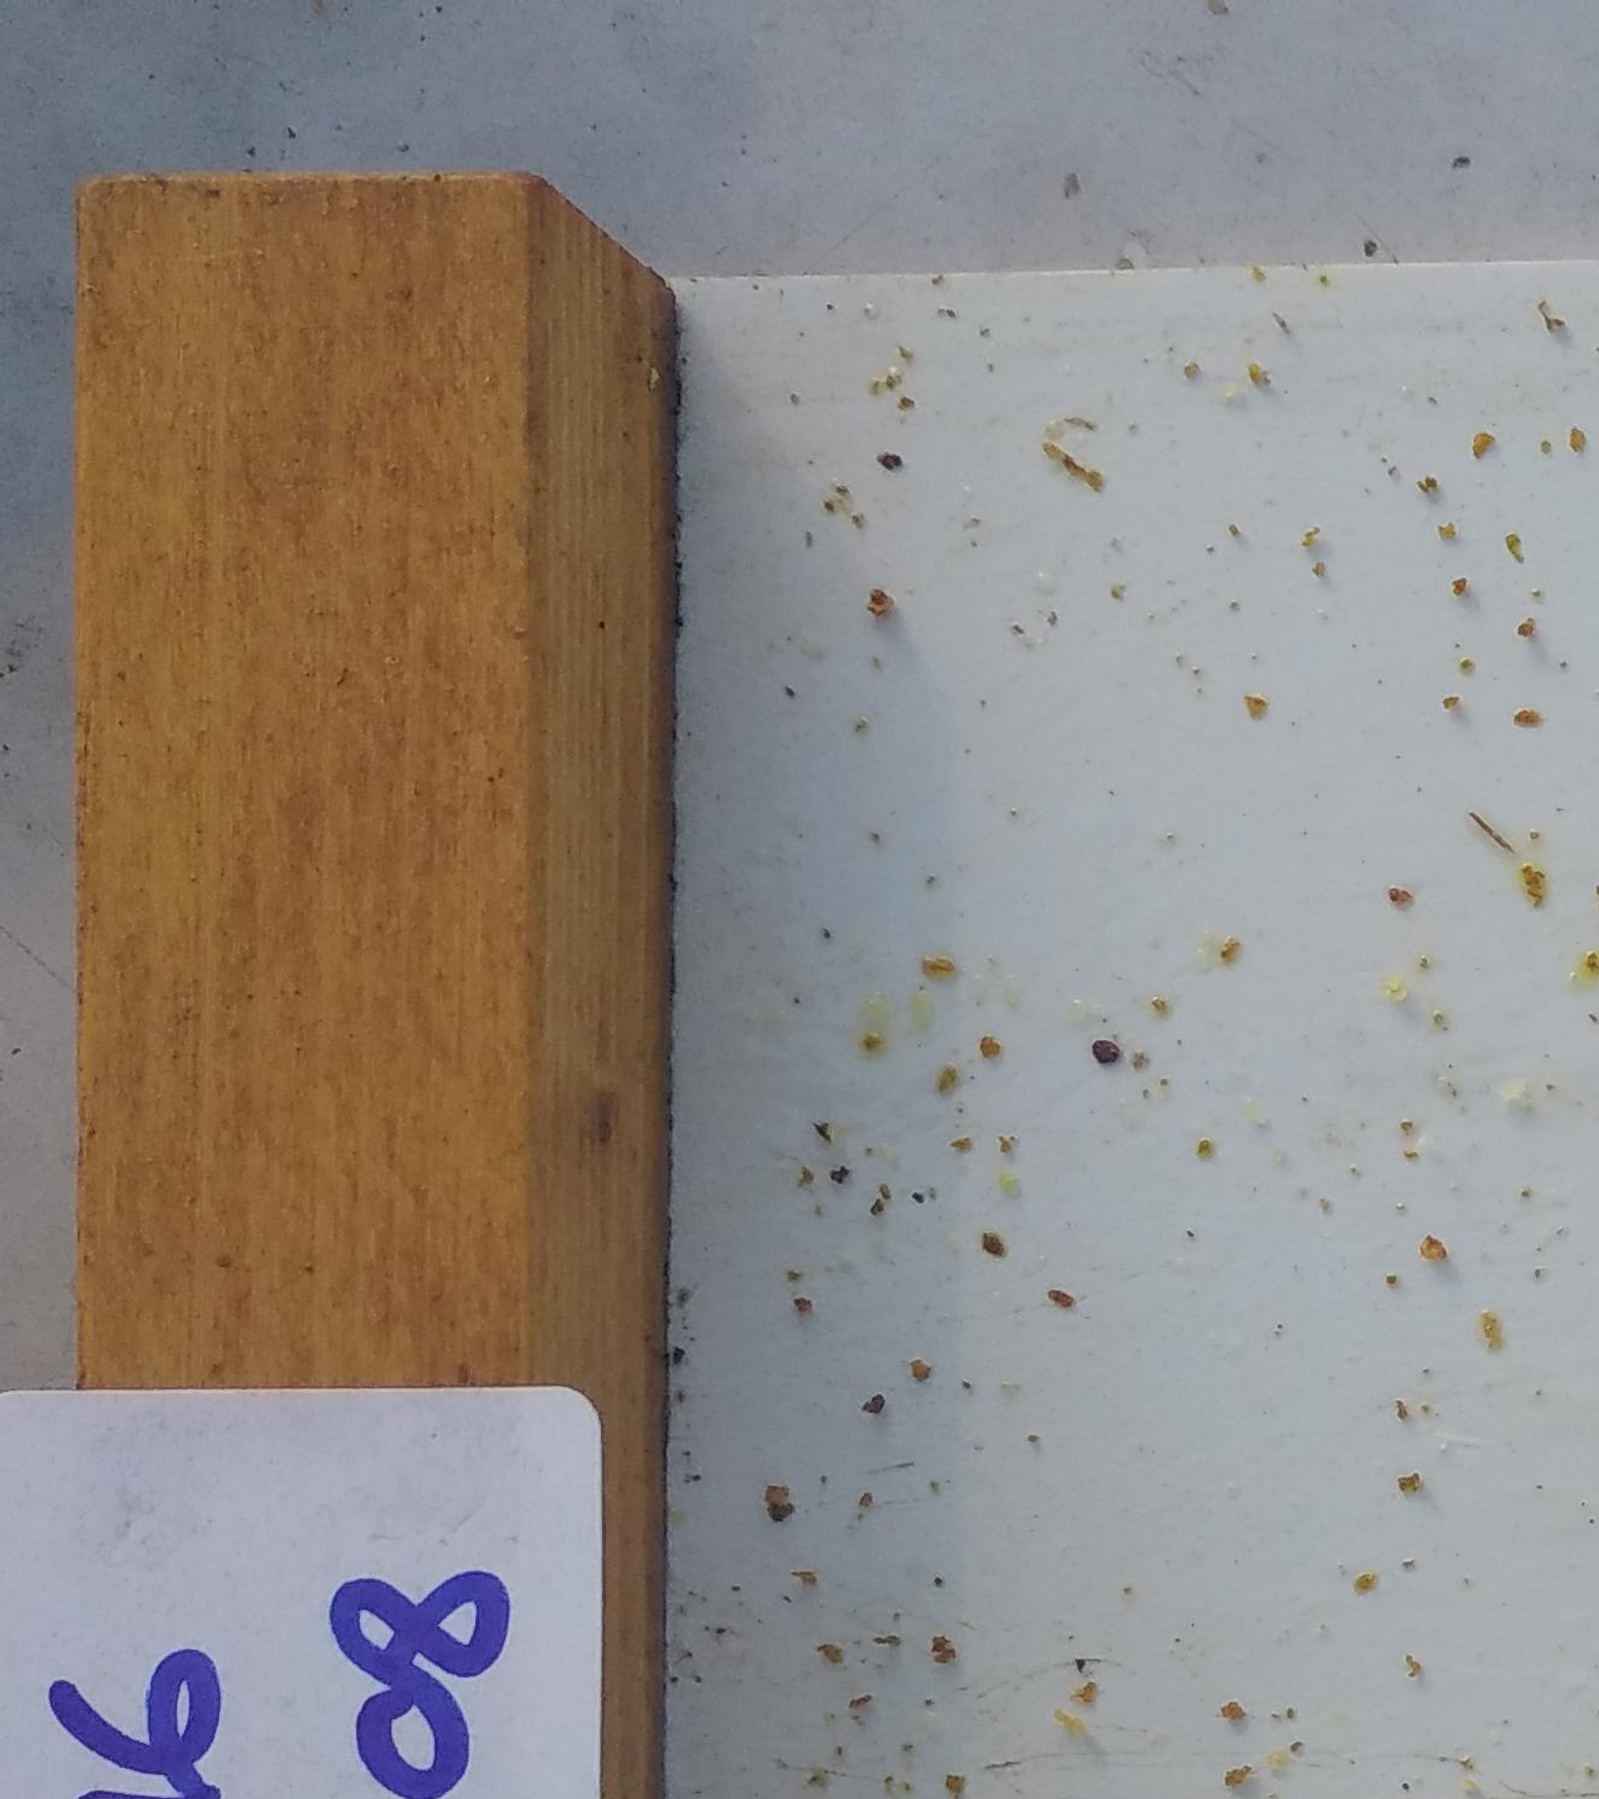Varroa: (1094, 1035, 1121, 1062)
